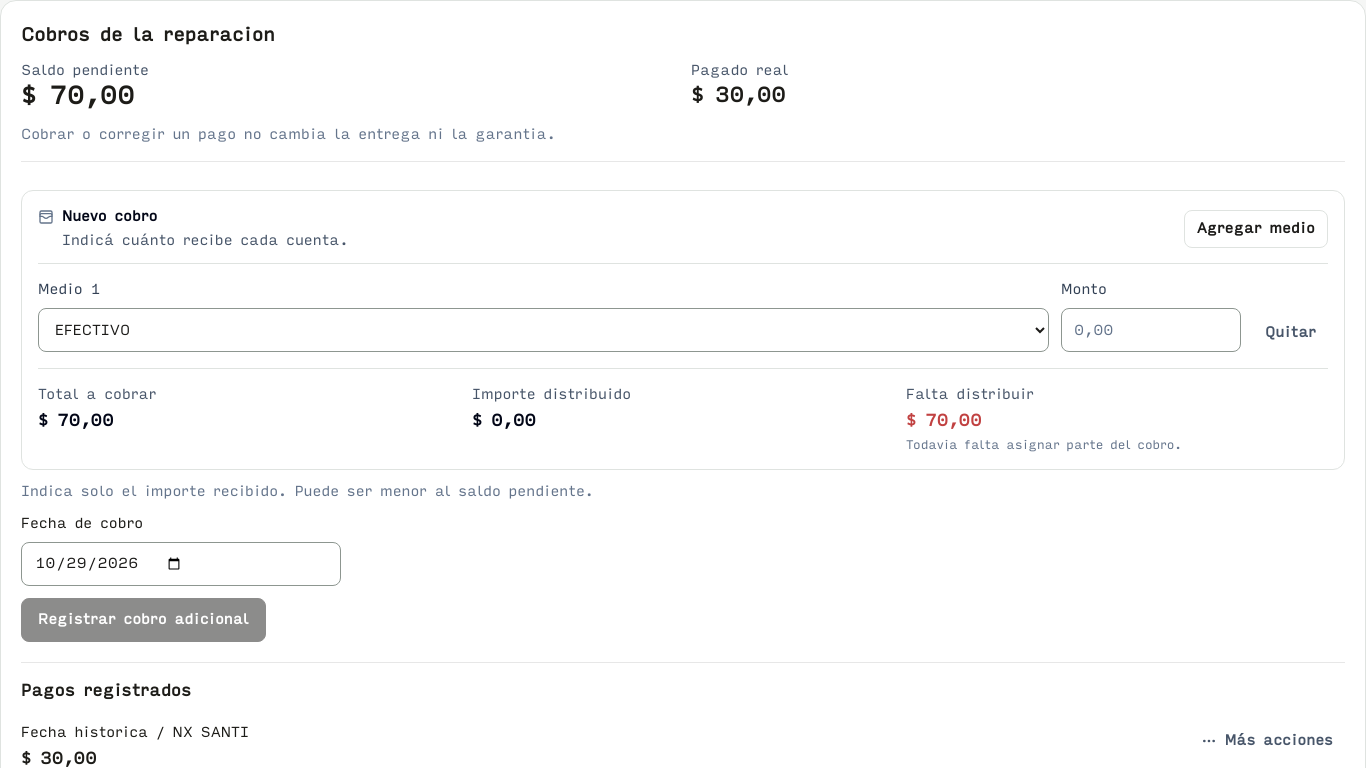
Scenario: repair collection and erroneous payment removal › requires a reason and explicit confirmation to remove only the selected payment
Click the button "Más acciones". click: (1267, 741)
box: [1189,723,1345,759]
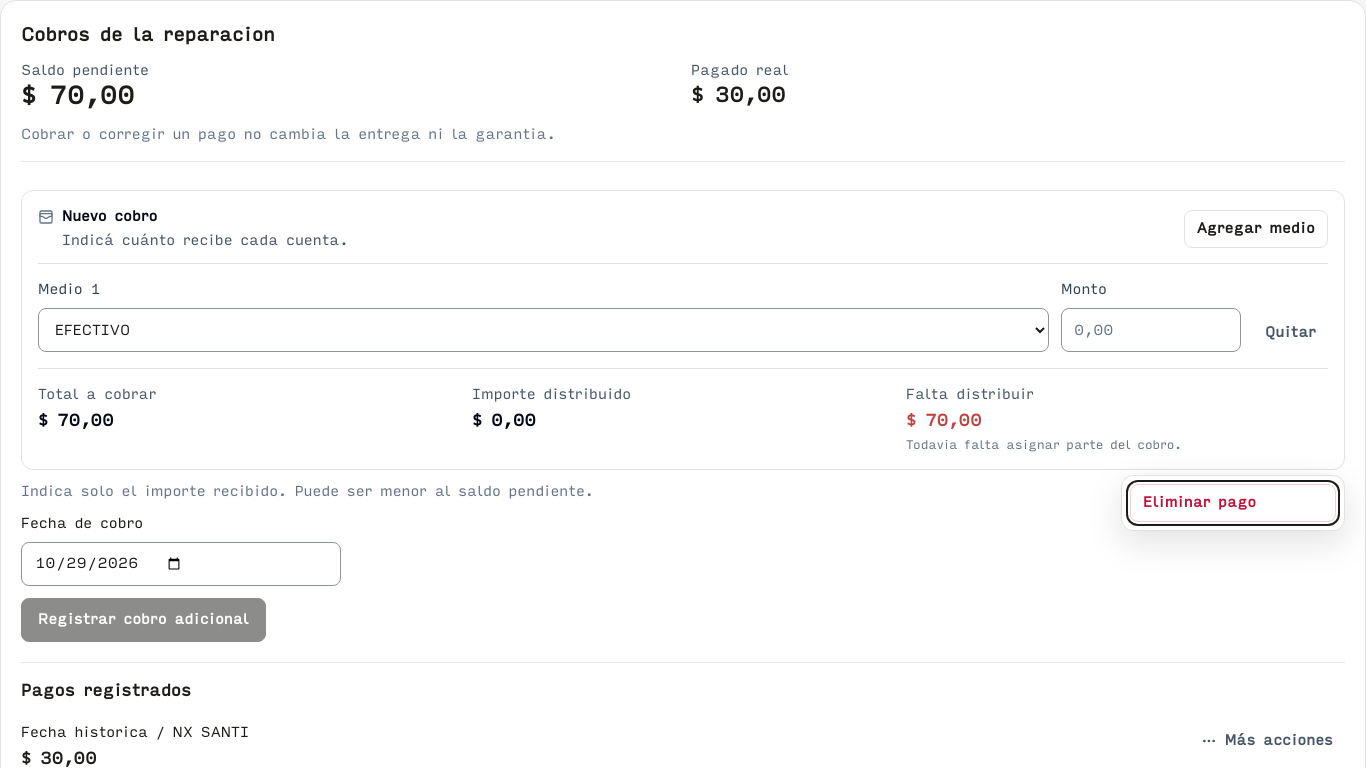
Click the button "Eliminar pago". click: (1233, 503)
box: [1130,484,1336,522]
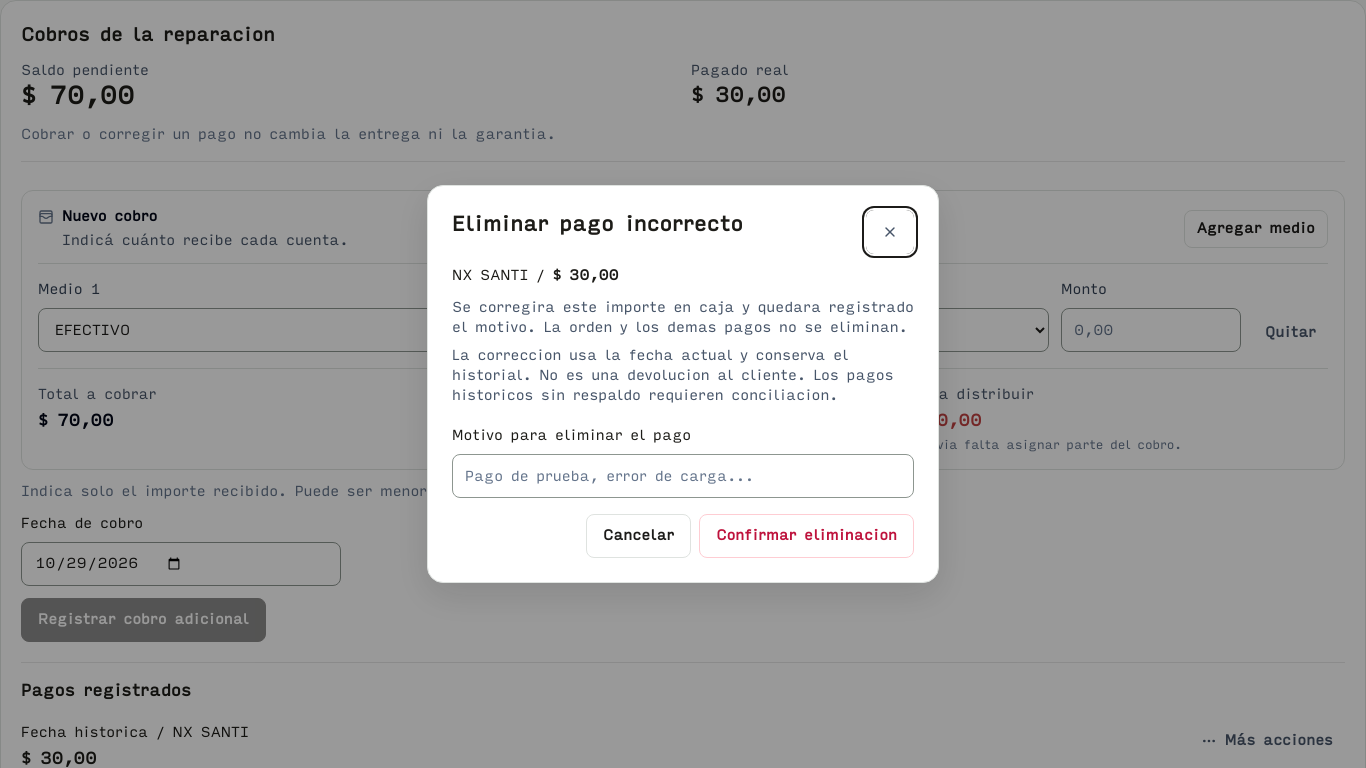
Check: the dialog "Eliminar pago incorrecto" is shown, box [427,185,939,583]
Click the button "Cancelar". click: (639, 536)
box: [586,514,691,558]
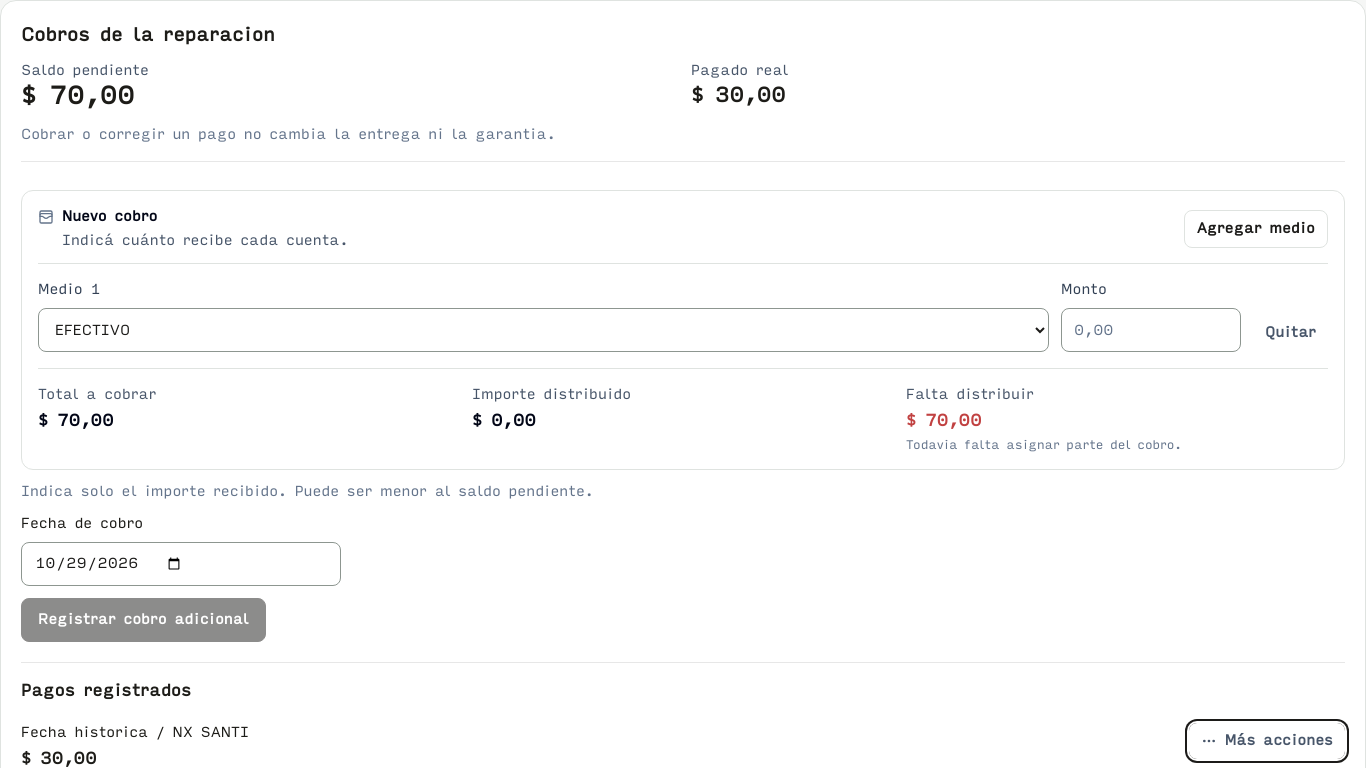
Check: the dialog is gone
